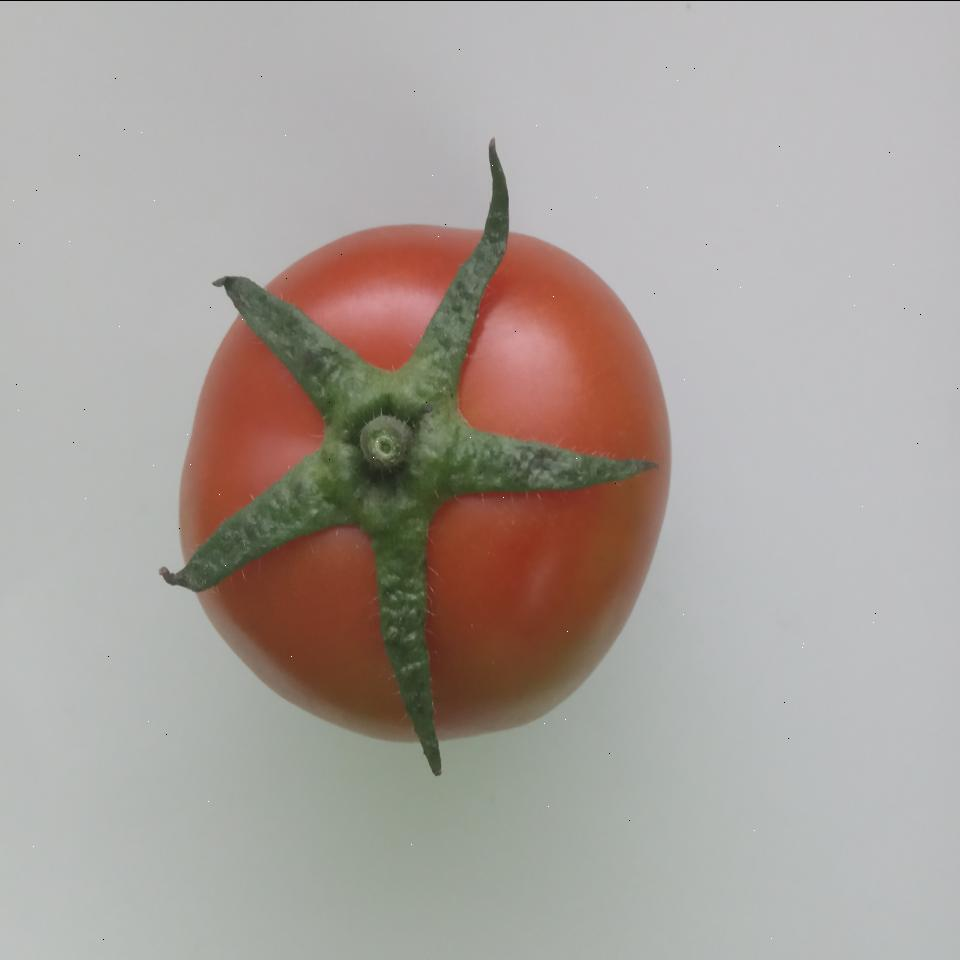Healthy: (161, 214, 675, 746)
